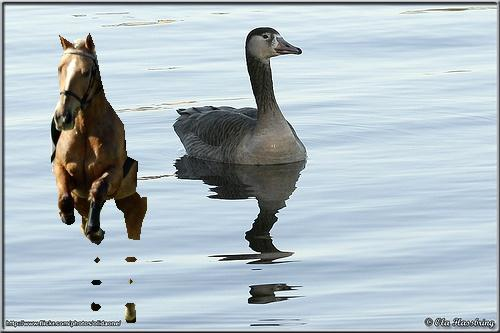tampered: (51, 34, 147, 323)
